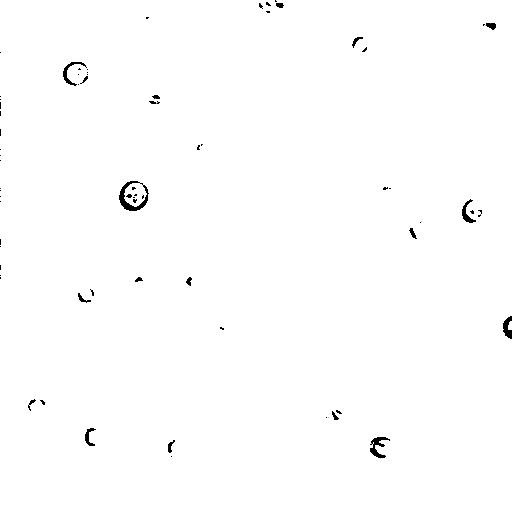micro-algae: (153, 32, 197, 78), (66, 307, 102, 341), (116, 179, 149, 213), (395, 198, 425, 230), (159, 322, 191, 351), (61, 60, 91, 88), (475, 10, 503, 39), (368, 435, 396, 459), (127, 270, 151, 297), (178, 270, 203, 295), (375, 182, 401, 206), (461, 198, 484, 224), (193, 139, 215, 164), (331, 398, 354, 421), (409, 216, 428, 241), (166, 437, 187, 459), (269, 0, 292, 17), (139, 10, 159, 29), (74, 284, 94, 303), (83, 427, 102, 446), (27, 397, 47, 415), (351, 35, 370, 53), (255, 0, 276, 12), (502, 315, 512, 339), (205, 1, 227, 9), (1, 105, 7, 130)
